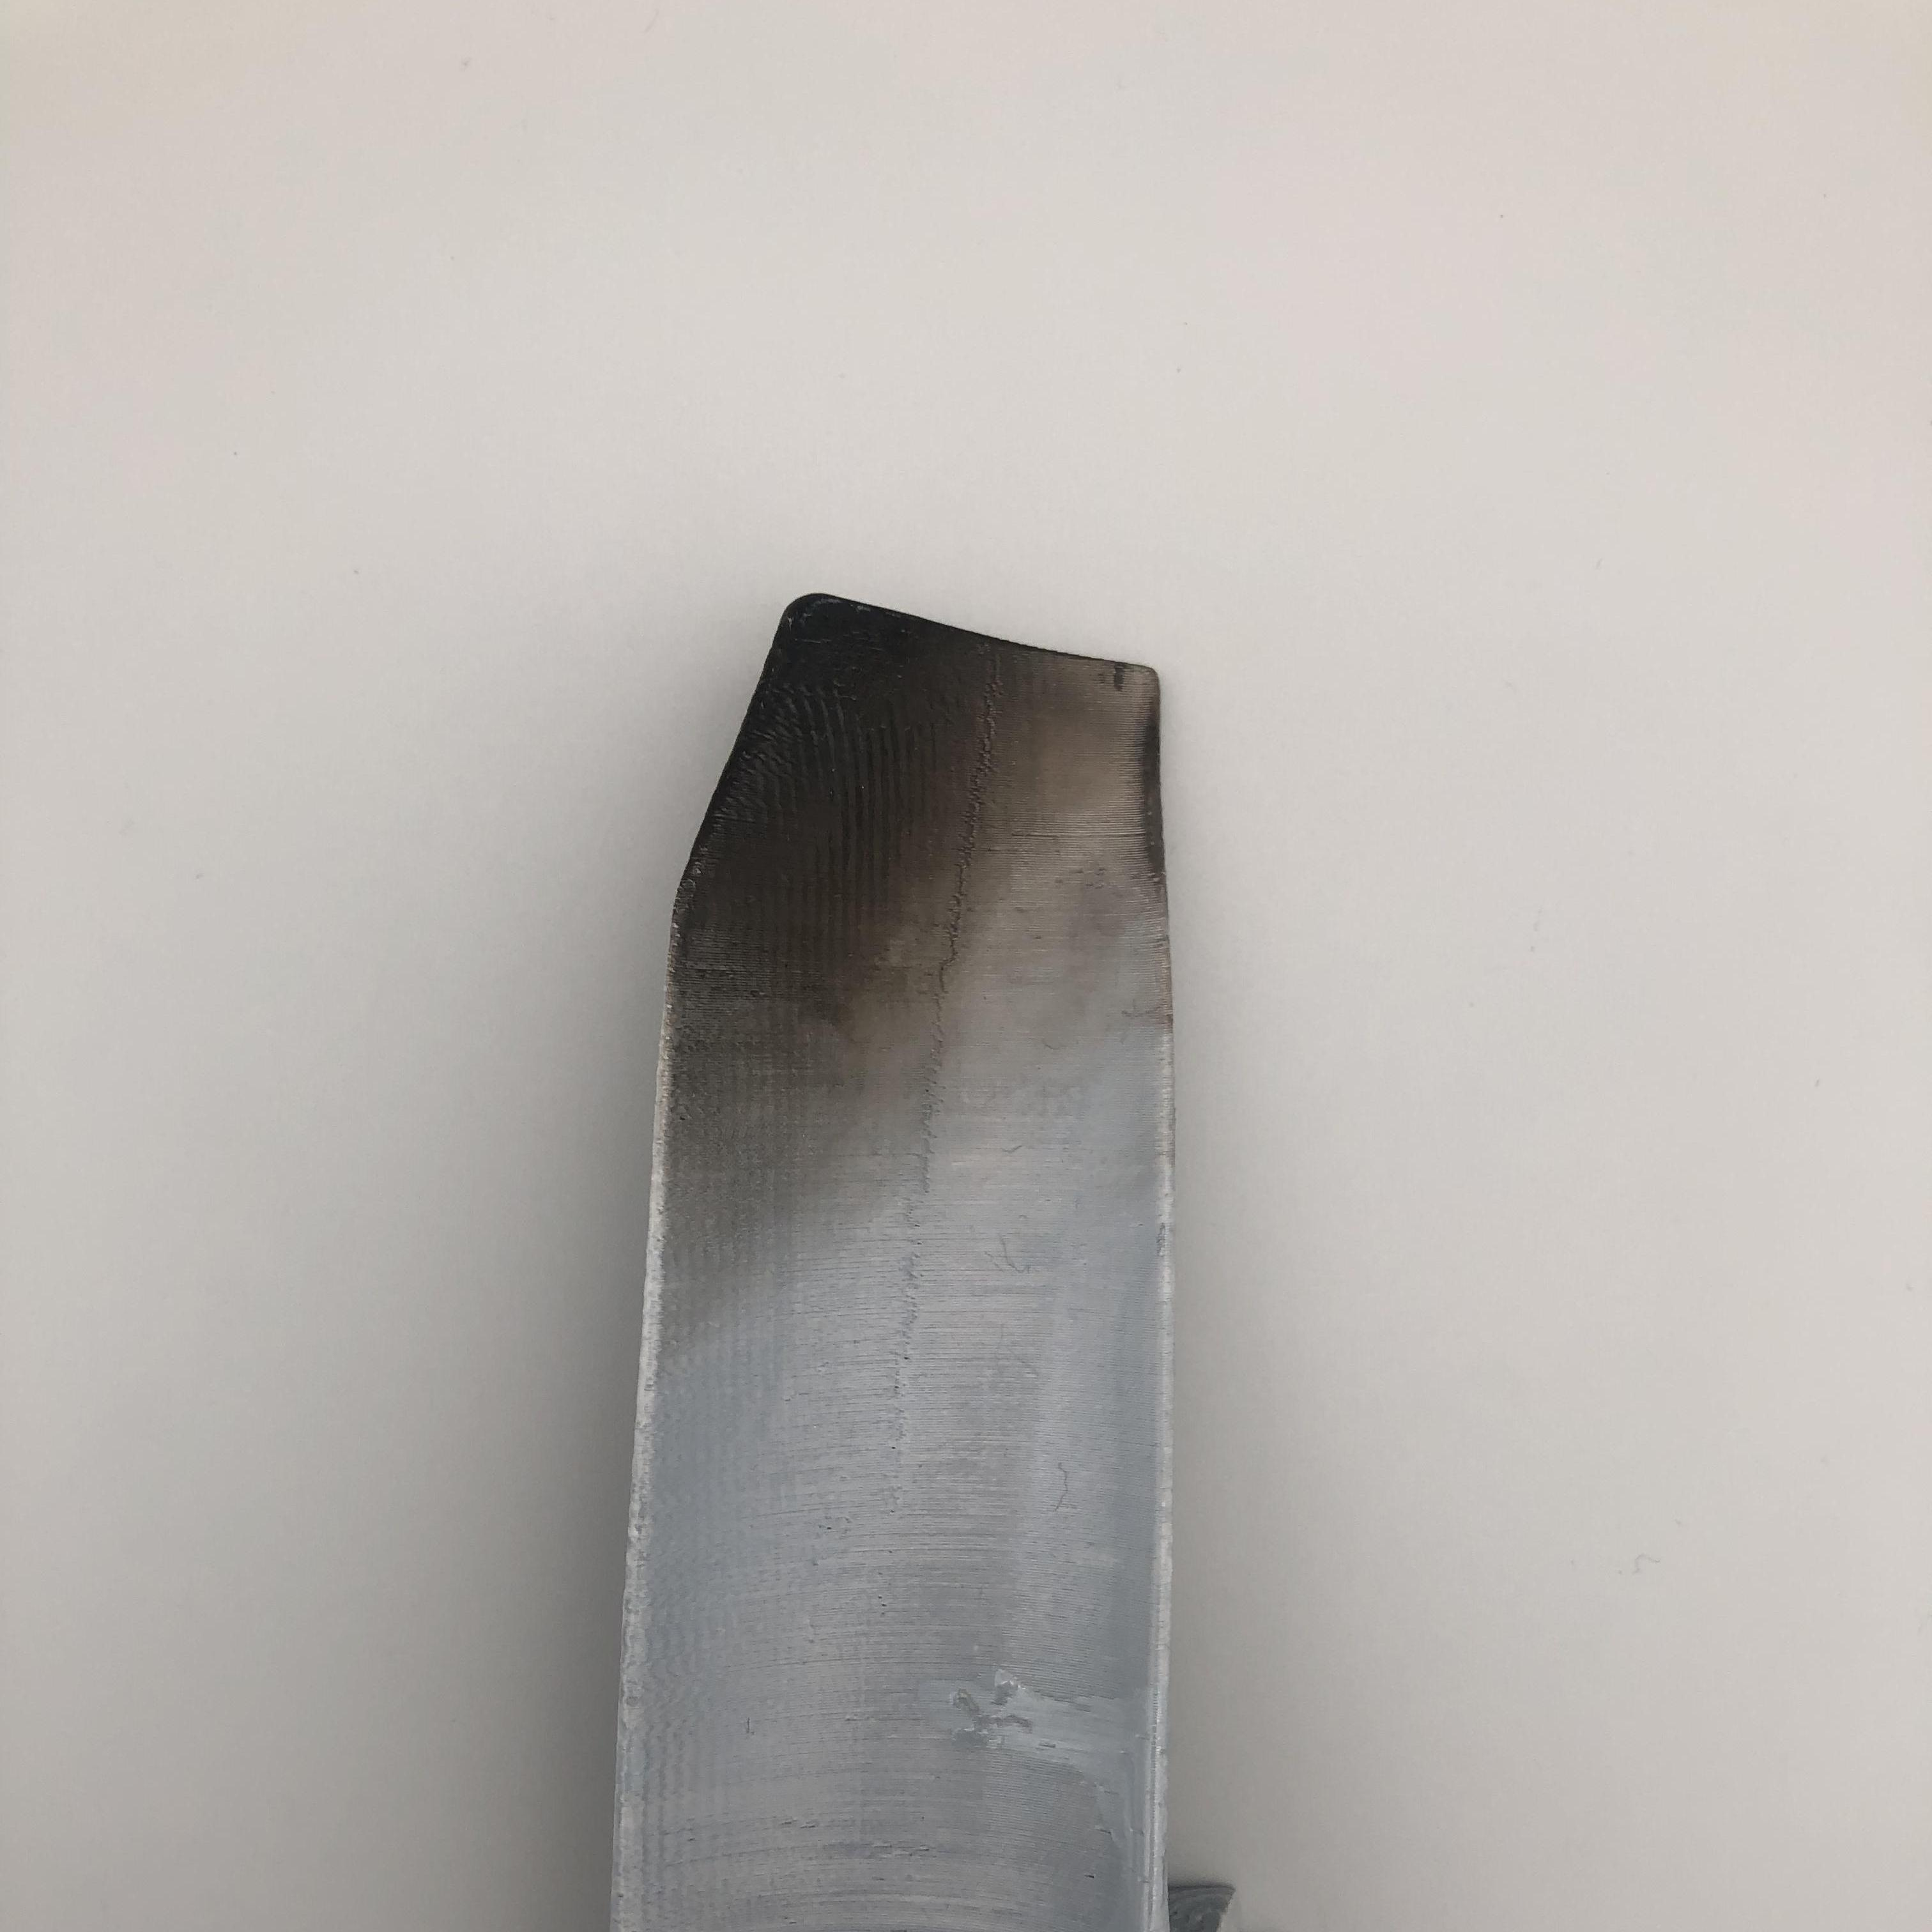ablation: (725, 633, 1116, 1028)
